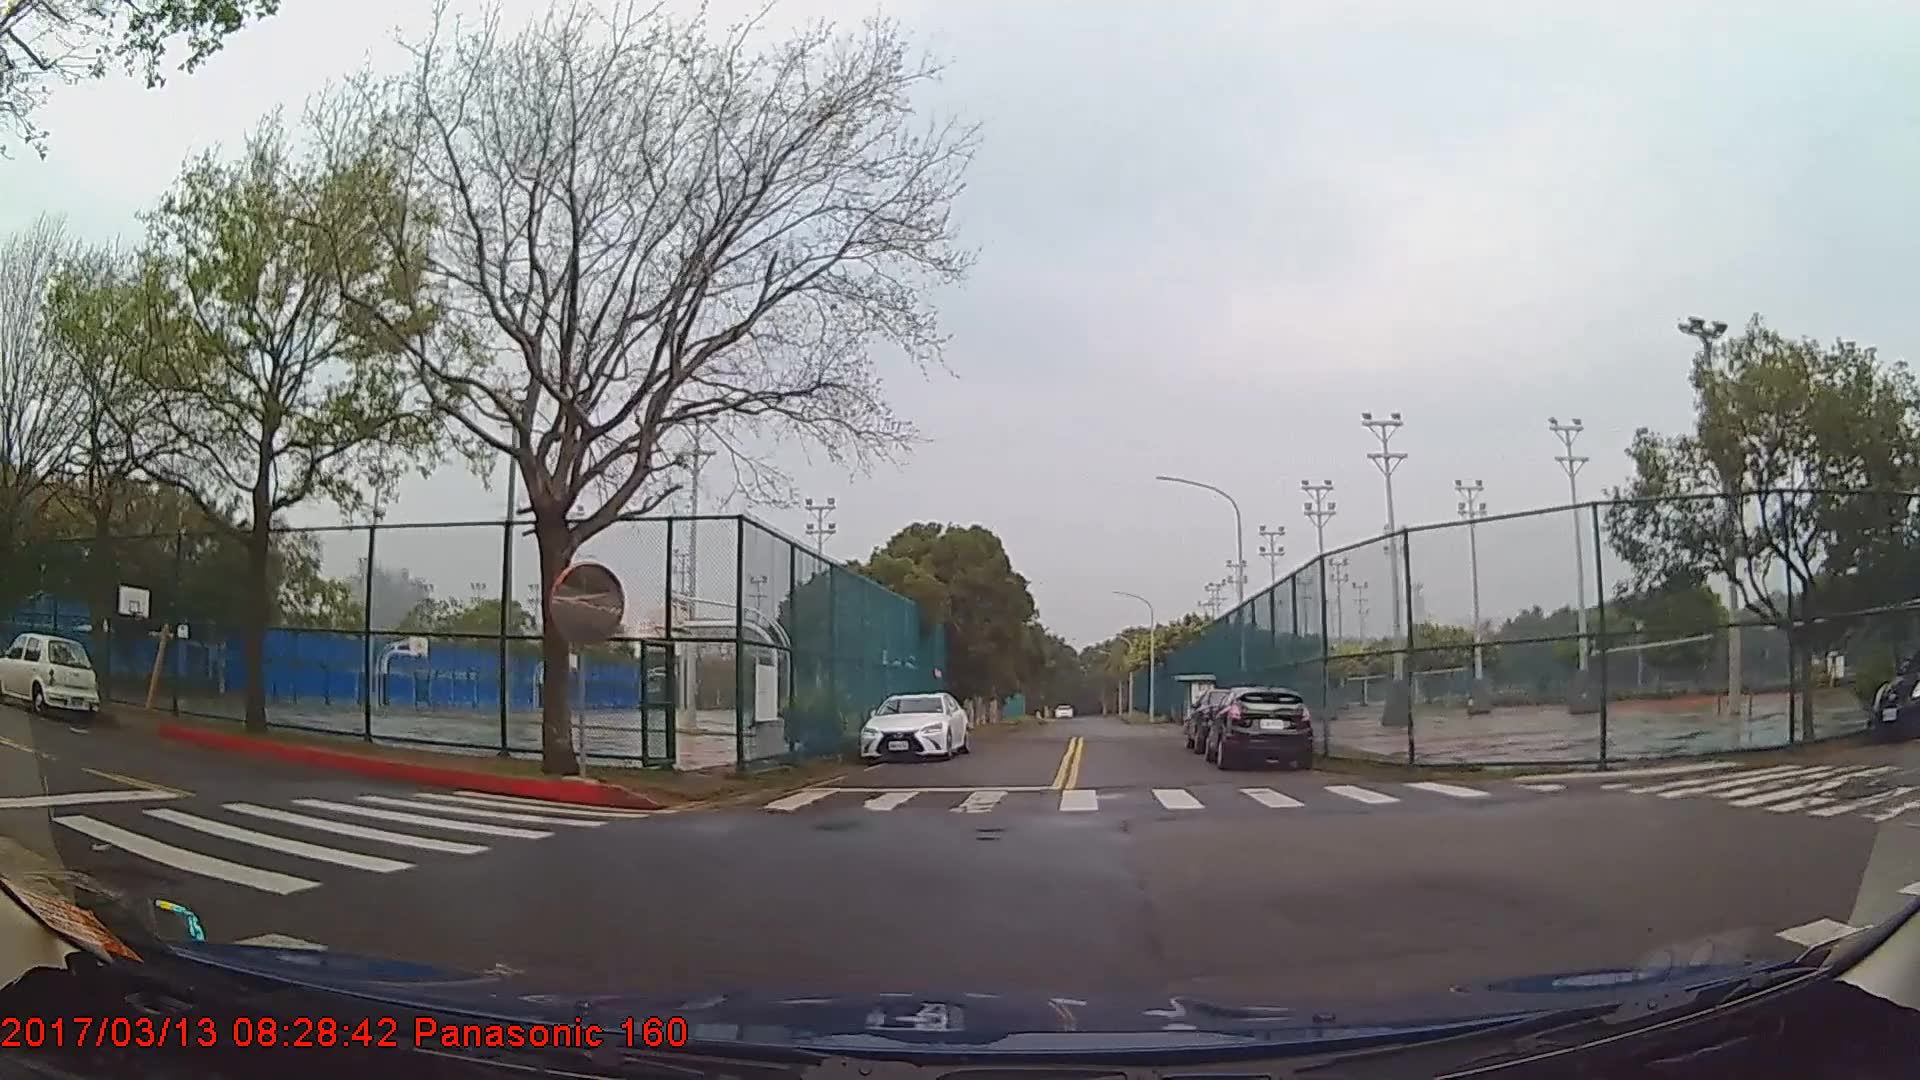vehicle: (1205, 684, 1313, 771), (0, 629, 99, 717), (860, 690, 971, 764)
